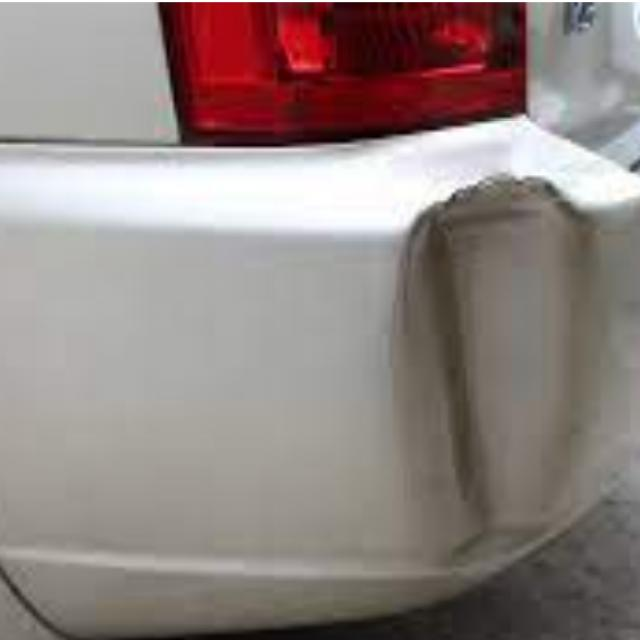dents: (382, 180, 608, 573)
